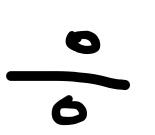div: (6, 31, 130, 125)
